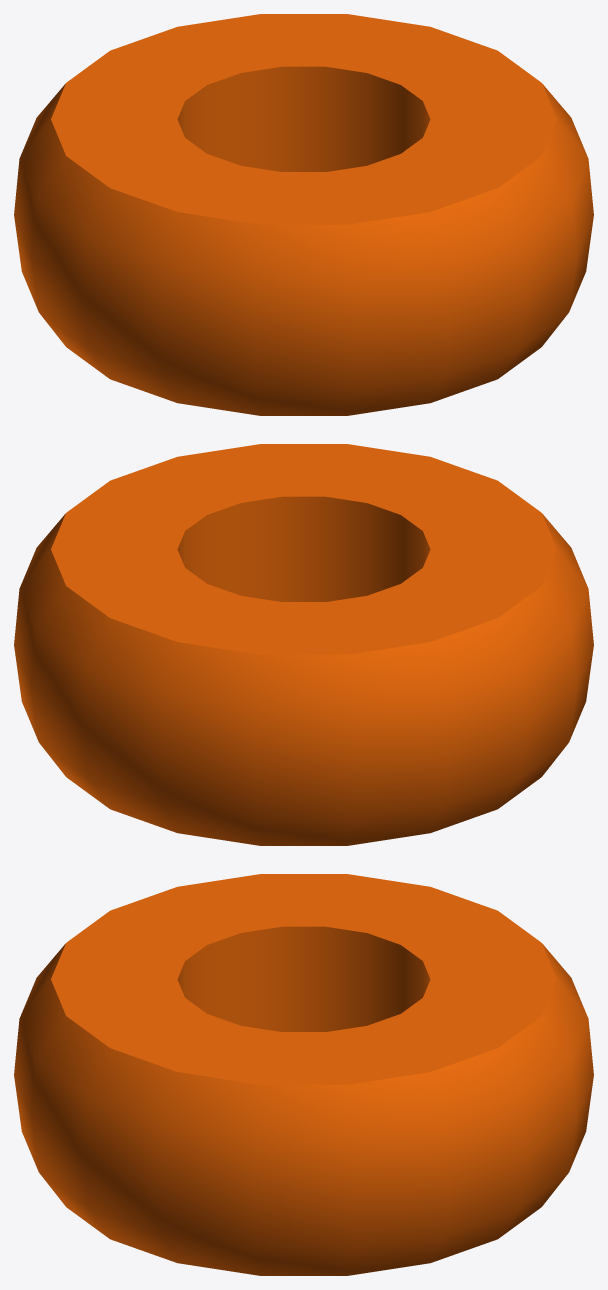
File: ThrowProp_RainbowStackerRing_07.FBX
3 renders of one model, top to bottom at view 1: azimuth 30°, elevation 25°; view 2: azimuth 150°, elevation 25°; view 3: azimuth 270°, elevation 25°, orthographic.
Visible parts, largest first — view 1: RainbowStackerRing_07; view 2: RainbowStackerRing_07; view 3: RainbowStackerRing_07.
Boxes of the visible parts, <box> form: RainbowStackerRing_07: <box>14,14,593,415</box>; RainbowStackerRing_07: <box>14,444,593,845</box>; RainbowStackerRing_07: <box>14,874,593,1275</box>.
Bounding box in the file's own units: 6.77 × 2.5 × 6.88.
1 material, 1 textured.
